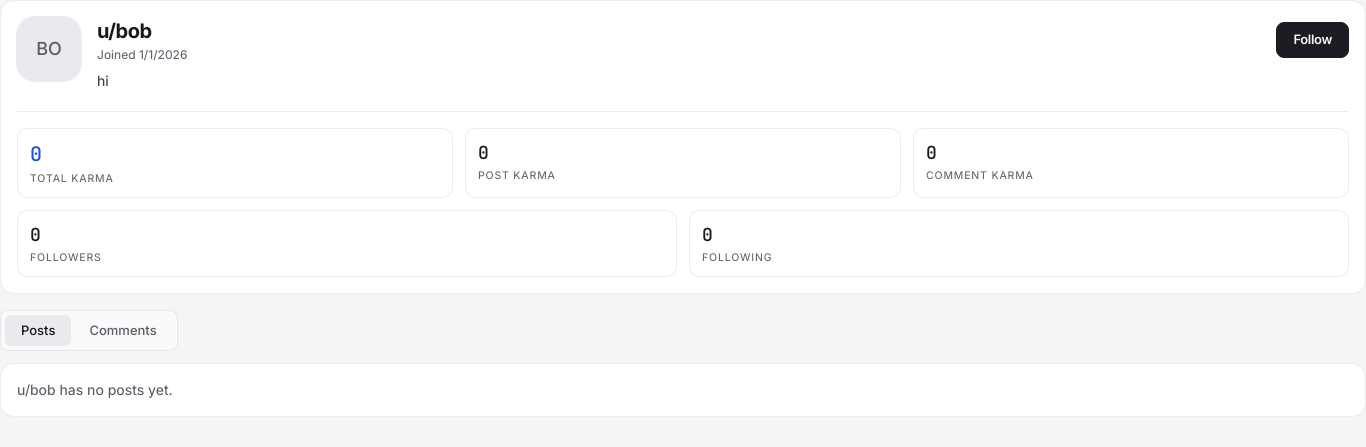
Scenario: UserProfilePage › masks inline spoilers in the comment list
Click the button "Comments" at (123,330), box [73,314,173,346]
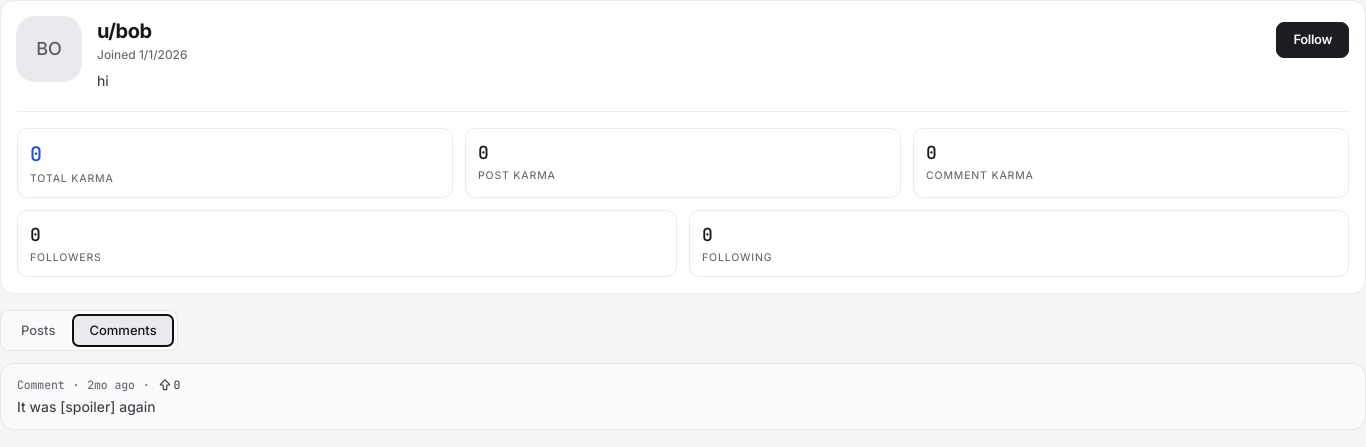
Expected: the text "It was [spoiler] again" is shown, [17,398,156,415]
